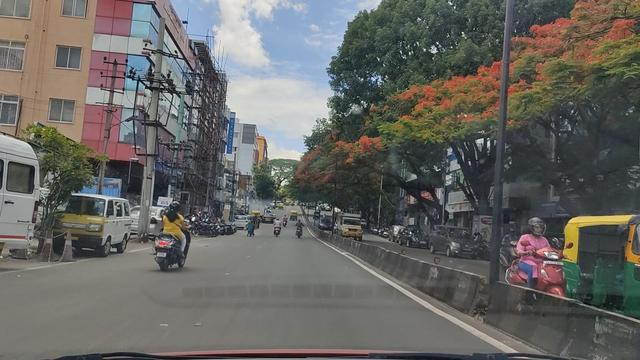LMV: (155, 194, 198, 270)
